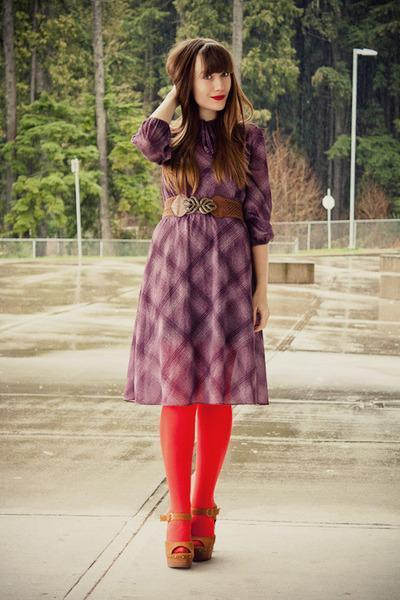dress: (124, 119, 273, 409)
shoe: (165, 527, 214, 570)
